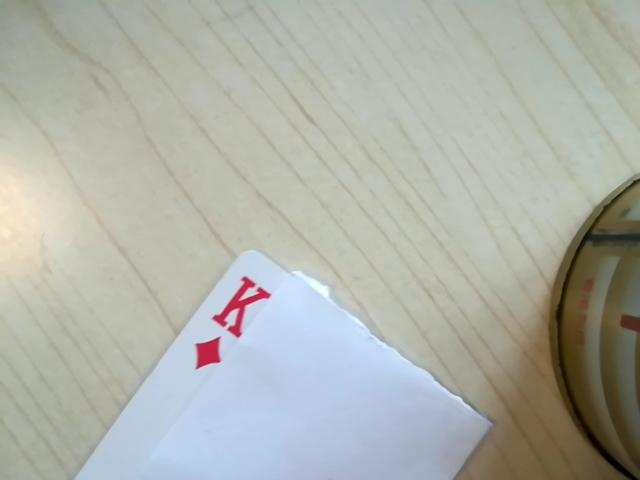fk k: (185, 271, 277, 373)
